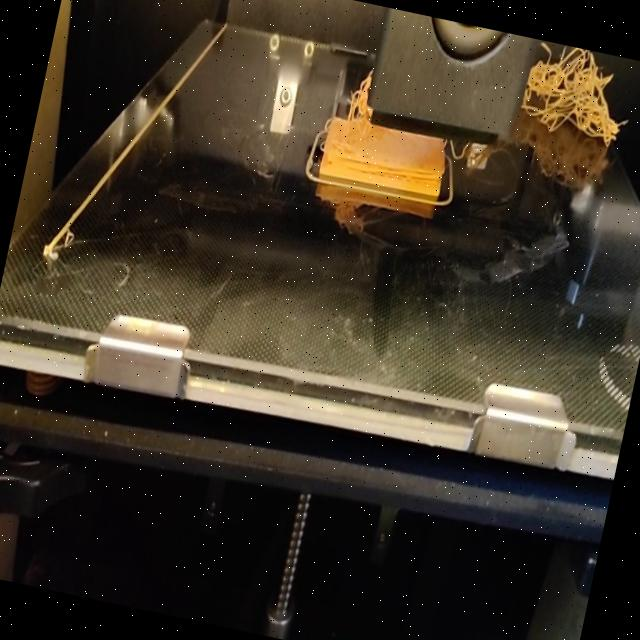spaghetti: (518, 40, 639, 152), (336, 72, 377, 142)
